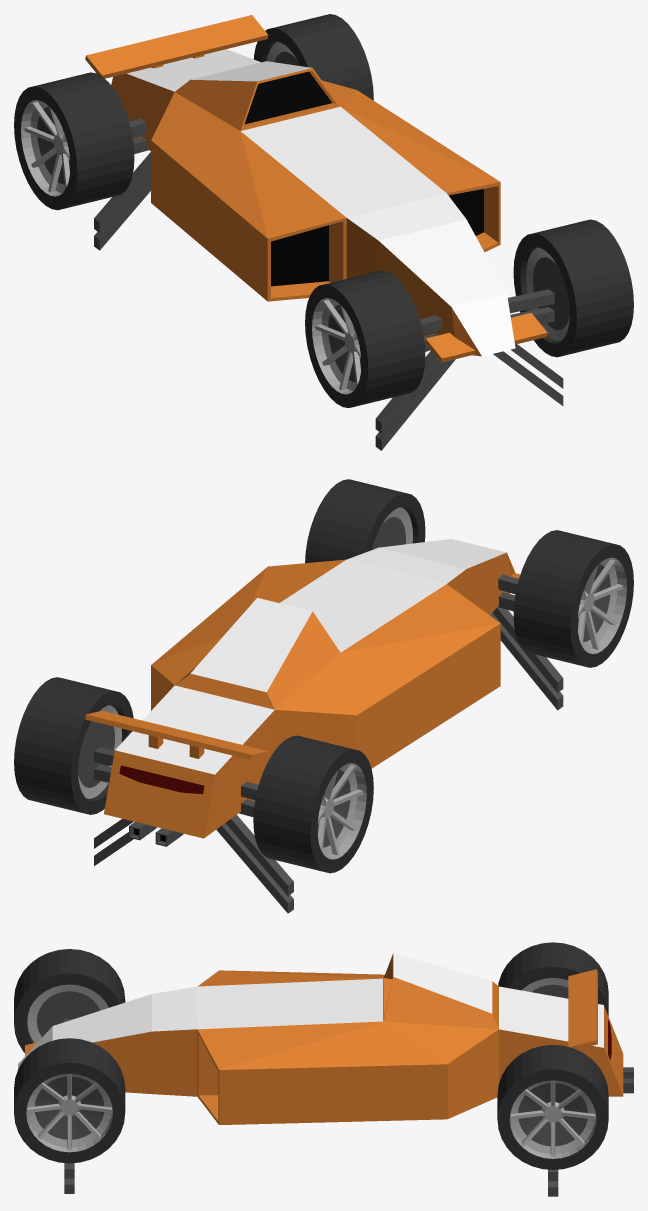
The model's file is car.glb.
The picture shows the model from 3 angles, top to bottom: view 1: azimuth 30°, elevation 25°; view 2: azimuth 150°, elevation 25°; view 3: azimuth 270°, elevation 25°; orthographic projection. The views are drawn at different scales.
Parts seen in each view (by area): view 1: Body, WheelBR, WheelFR, WheelFL, WheelBL, SuspensionFR, SuspensionBR, Suspension, SuspensionFL; view 2: Body, WheelBR, WheelFR, WheelBL, WheelFL, SuspensionBR, SuspensionFR, Suspension, SuspensionBL; view 3: Body, WheelBL, WheelFL, WheelFR, WheelBR.
Boxes of the visible parts, left/top/right/bottom form: Body: left=85, top=15, right=547, bottom=362; WheelBR: left=14, top=72, right=134, bottom=210; WheelFR: left=305, top=270, right=425, bottom=407; WheelFL: left=513, top=219, right=633, bottom=357; WheelBL: left=253, top=14, right=373, bottom=100; SuspensionFR: left=375, top=350, right=455, bottom=450; SuspensionBR: left=94, top=152, right=150, bottom=250; Suspension: left=129, top=118, right=554, bottom=351; SuspensionFL: left=493, top=344, right=563, bottom=405; Body: left=85, top=539, right=520, bottom=846; WheelBR: left=253, top=735, right=373, bottom=873; WheelFR: left=513, top=530, right=633, bottom=667; WheelBL: left=14, top=677, right=133, bottom=814; WheelFL: left=305, top=479, right=425, bottom=563; SuspensionBR: left=216, top=814, right=293, bottom=913; SuspensionFR: left=490, top=607, right=563, bottom=710; Suspension: left=94, top=574, right=518, bottom=817; SuspensionBL: left=94, top=819, right=133, bottom=865; Body: left=18, top=953, right=633, bottom=1124; WheelBL: left=497, top=1045, right=608, bottom=1169; WheelFL: left=14, top=1038, right=125, bottom=1163; WheelFR: left=14, top=949, right=125, bottom=1052; WheelBR: left=498, top=942, right=608, bottom=1016.
Size of what is drawn, in the model's own units: 1.79 by 1.25 by 3.69.
